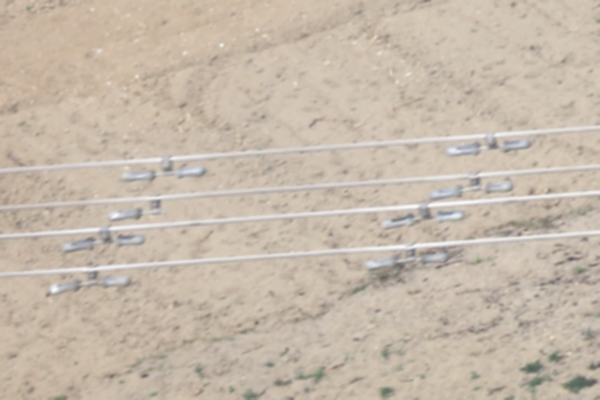damper: (45, 262, 135, 297), (427, 168, 515, 201), (117, 152, 209, 183), (361, 239, 447, 272), (58, 222, 146, 254), (443, 128, 533, 158), (377, 201, 465, 230)
damper_defect: (104, 191, 168, 223)
